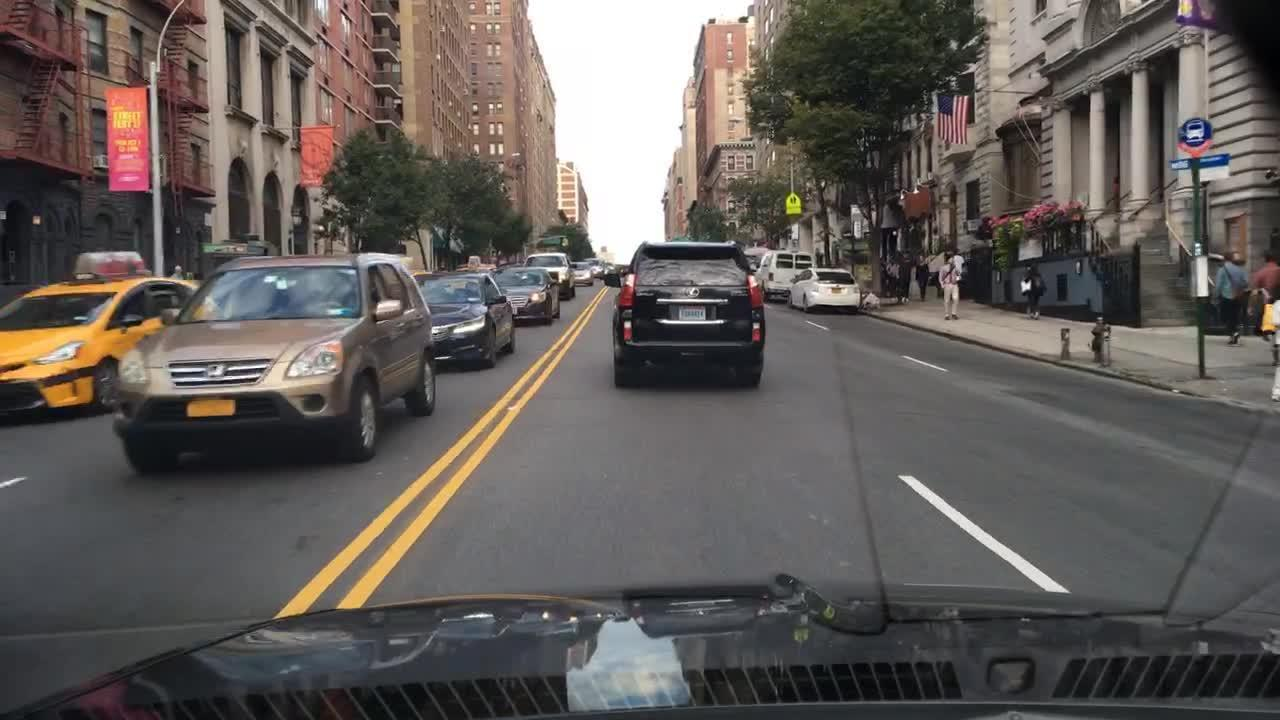Honda: (202, 360, 236, 387)
lexus: (682, 280, 703, 303)
